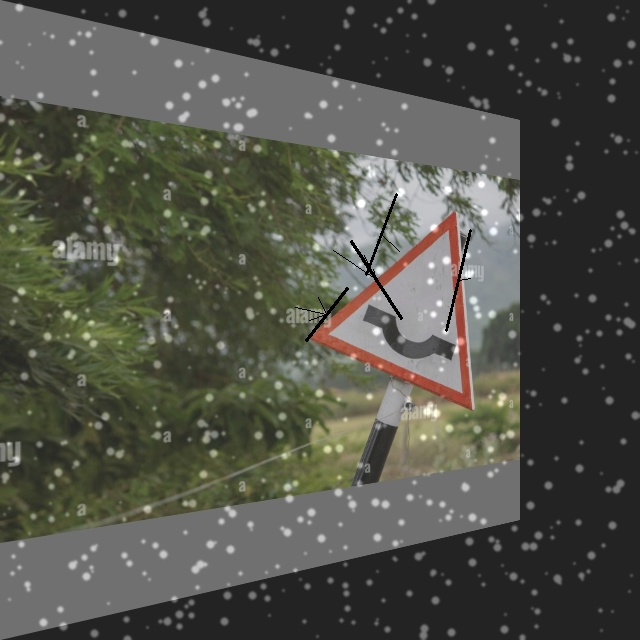Dangerous_Dip: (305, 190, 477, 425)
